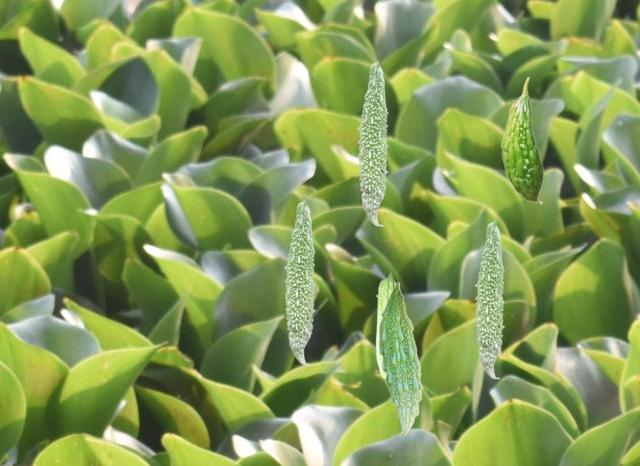ampalaya: (378, 281, 423, 437), (500, 76, 544, 204), (283, 199, 316, 365), (356, 60, 389, 226), (474, 220, 505, 379), (375, 272, 395, 379)
